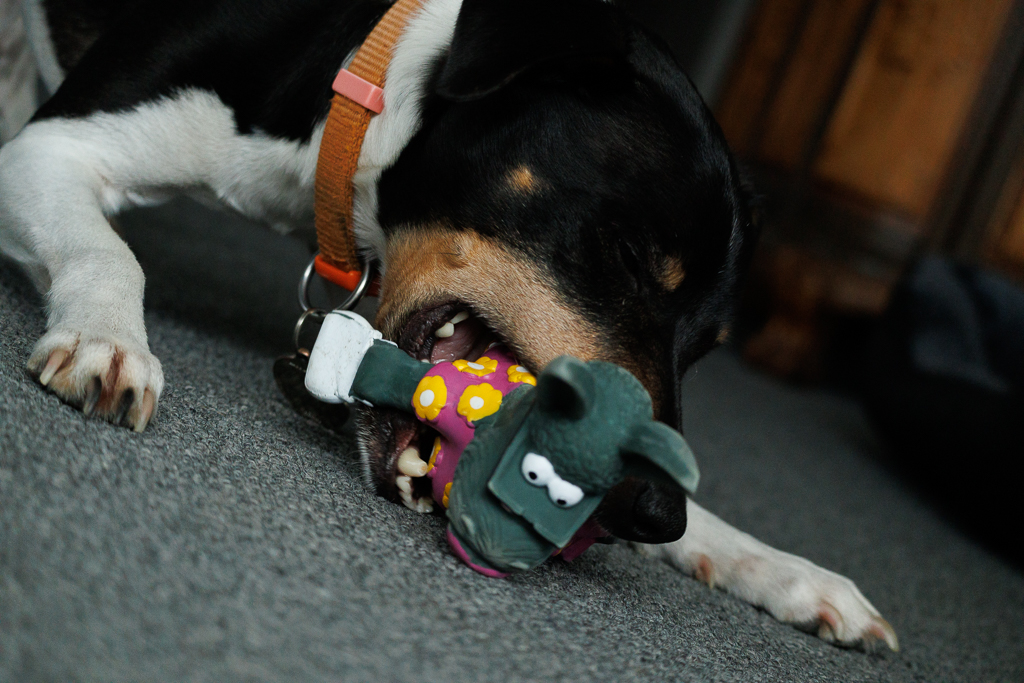Dog: (0, 0, 907, 661)
Humanoid: (294, 283, 713, 590)
